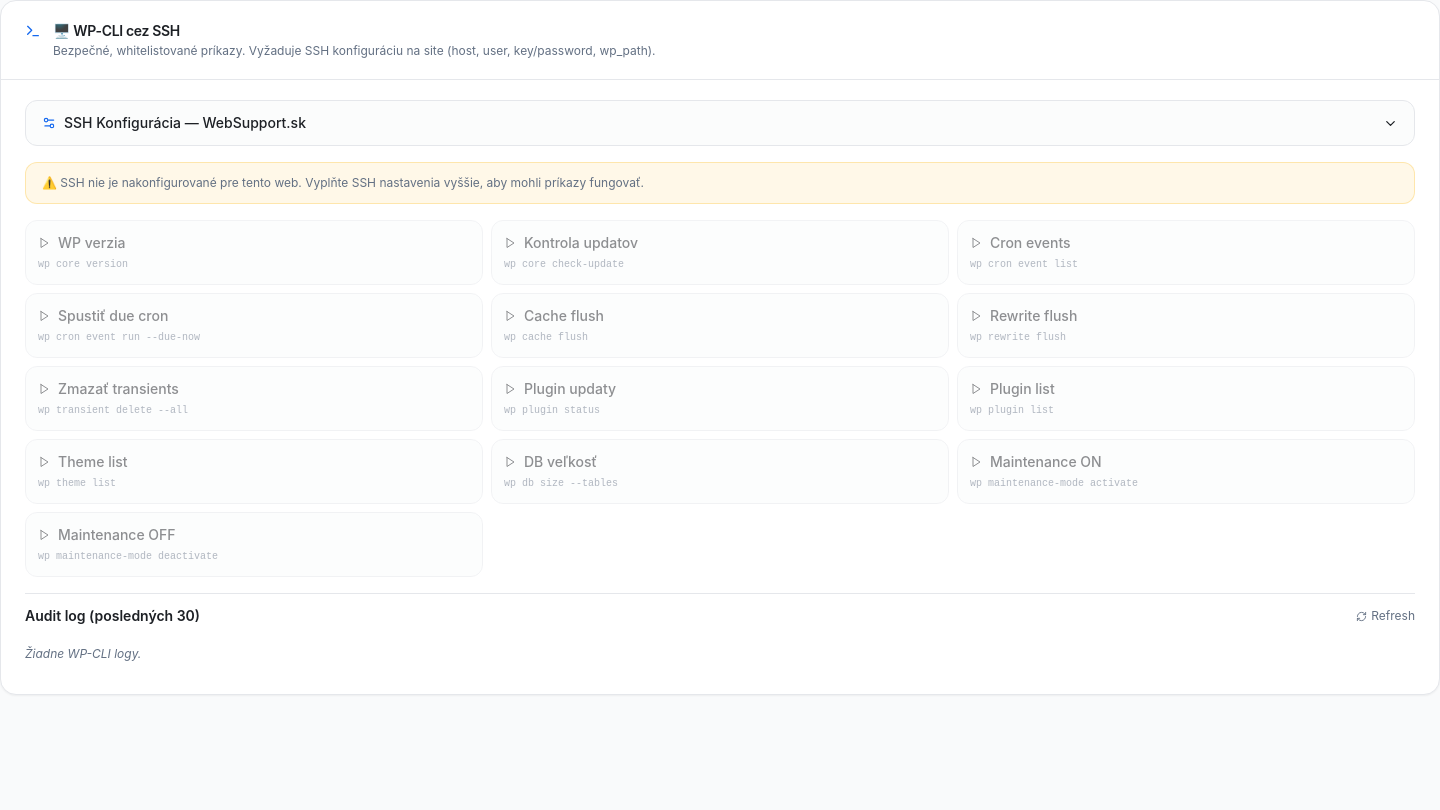
Test: WPCLIManager – SSH form toggle › opens SSH form on toggle click
Click the button "SSH Konfigurácia — WebSupport.sk".
click(185, 122)  # box [26,101,1414,145]
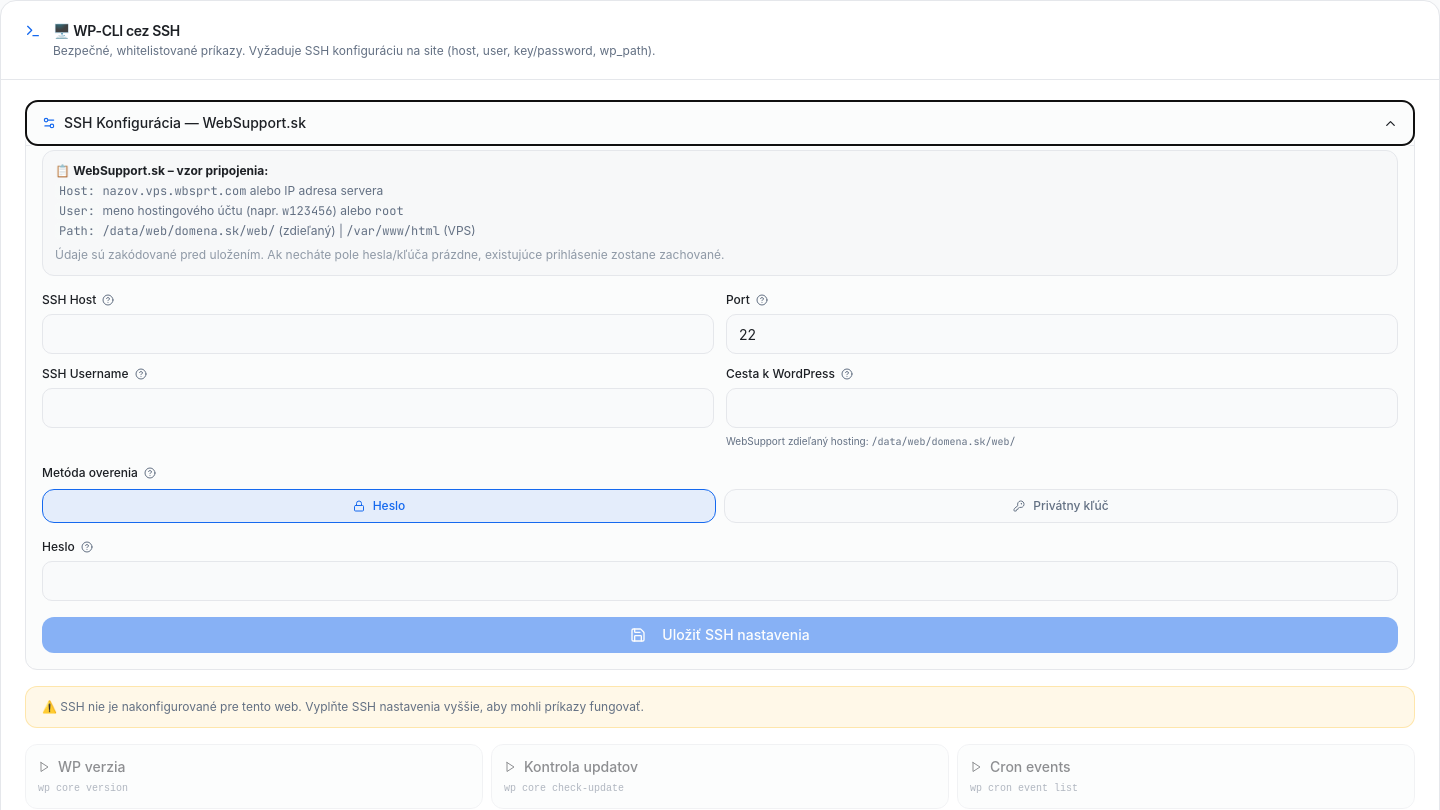
Expected: the number field labelled "Port" is shown, [726,314,1398,354]
